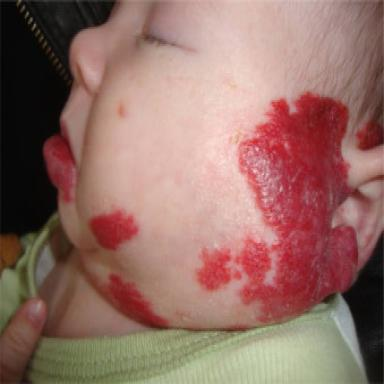Hemangiome: (197, 92, 356, 321), (108, 273, 169, 328), (89, 210, 139, 249), (356, 120, 383, 149)
